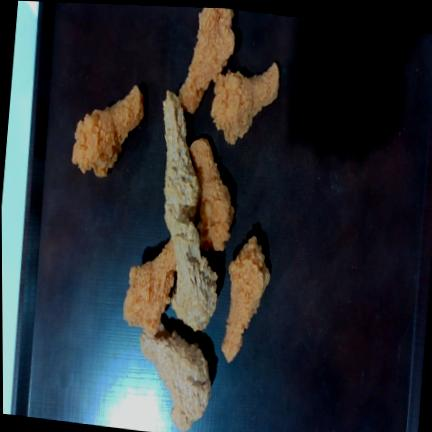chicken: (140, 328, 211, 432), (73, 85, 144, 177), (222, 236, 270, 363), (179, 8, 235, 113), (211, 62, 279, 144), (163, 91, 200, 233), (123, 239, 176, 335), (189, 138, 234, 251), (172, 223, 217, 331)
